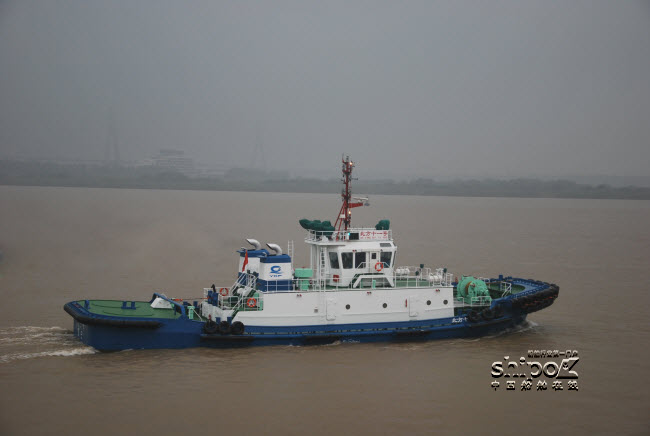otherboat: (60, 156, 563, 359)
